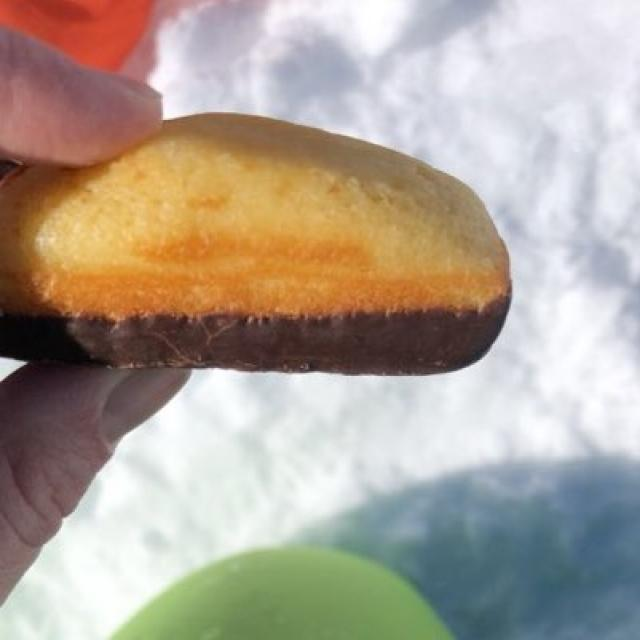chocolate: (16, 306, 501, 365)
